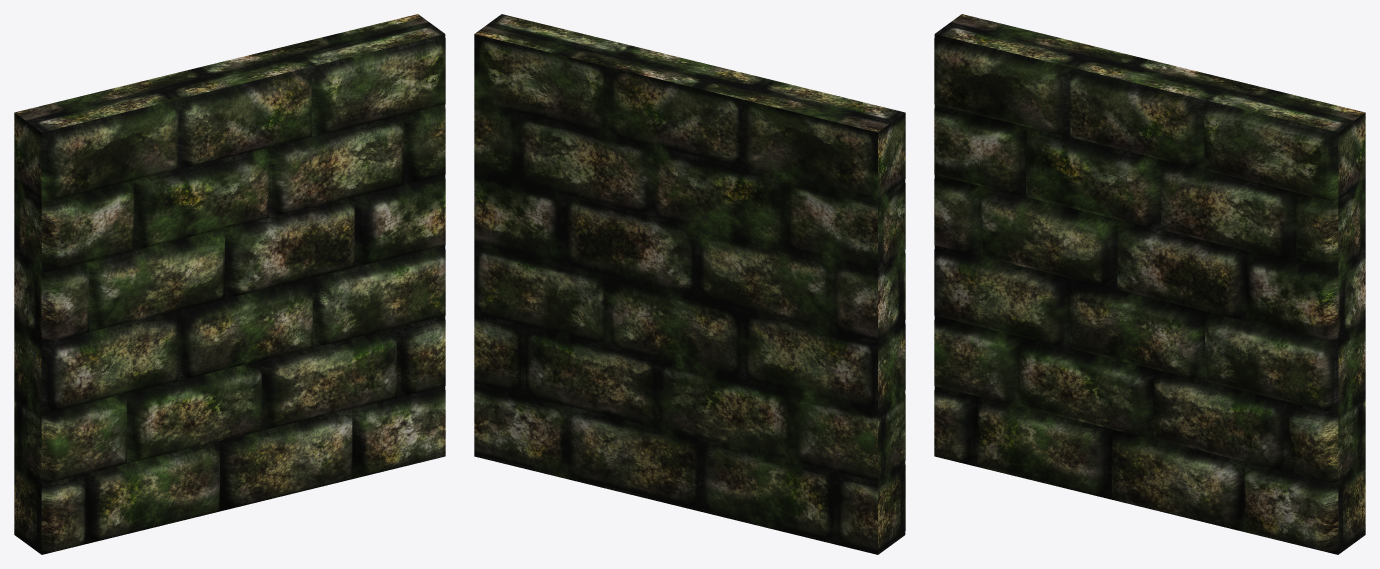
Rendered from Wall7.fbx.
3 renders of one model, left to right at view 1: azimuth 30°, elevation 25°; view 2: azimuth 150°, elevation 25°; view 3: azimuth 330°, elevation 25°, orthographic.
Visible parts, largest first — view 1: Wall7_LOD0; view 2: Wall7_LOD0; view 3: Wall7_LOD0.
Part boxes in pixels (left/top/right/bottom): Wall7_LOD0: left=14, top=14, right=445, bottom=554; Wall7_LOD0: left=474, top=14, right=905, bottom=554; Wall7_LOD0: left=934, top=14, right=1365, bottom=554.
Size of what is drawn, in the model's own units: 200 by 200 by 30.
